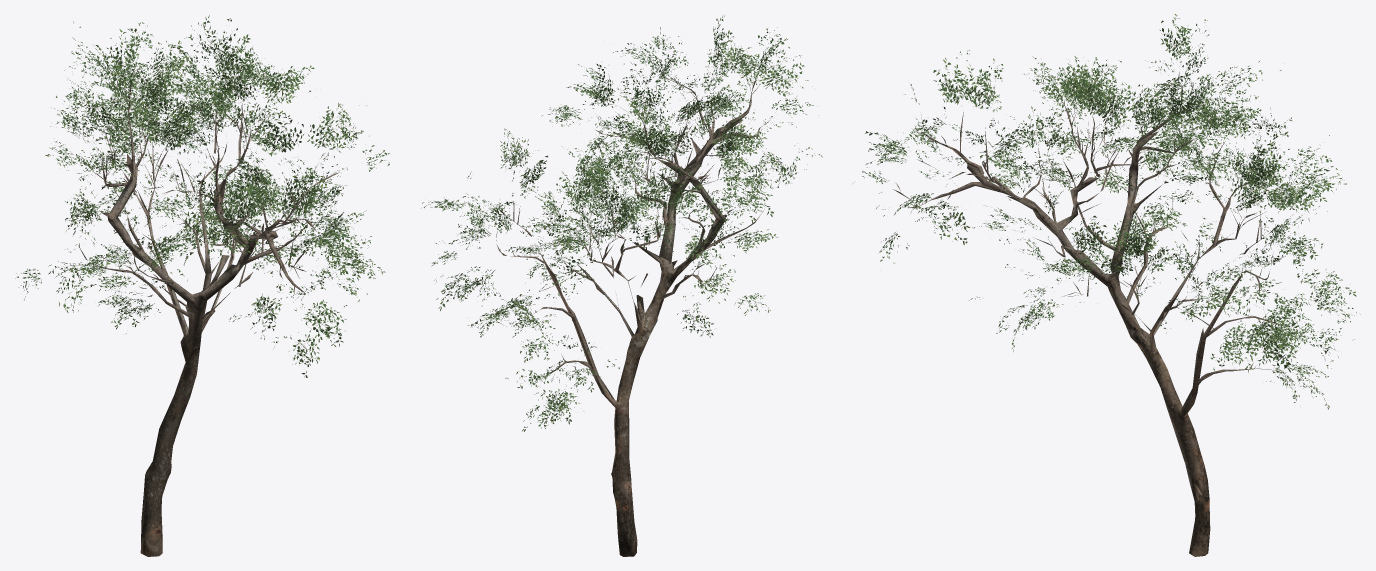
Rendered from tree_small_02.glb.
3 renders of one model, left to right at view 1: azimuth 30°, elevation 25°; view 2: azimuth 150°, elevation 25°; view 3: azimuth 270°, elevation 25°, orthographic. The views are drawn at different scales.
Visible parts, largest first — view 1: tree_small_02_LOD0; view 2: tree_small_02_LOD0; view 3: tree_small_02_LOD0.
Part boxes in pixels (left/top/right/bottom): tree_small_02_LOD0: left=15, top=15, right=389, bottom=556; tree_small_02_LOD0: left=422, top=16, right=822, bottom=556; tree_small_02_LOD0: left=862, top=14, right=1360, bottom=556.
Size of the model in its own units: 1.34 by 2.12 by 1.96.
Materials: 3 (3 with a texture image).
